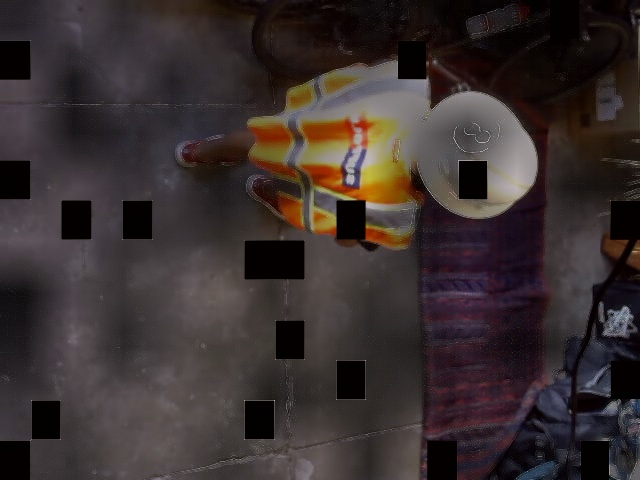eight: (452, 114, 501, 153)
